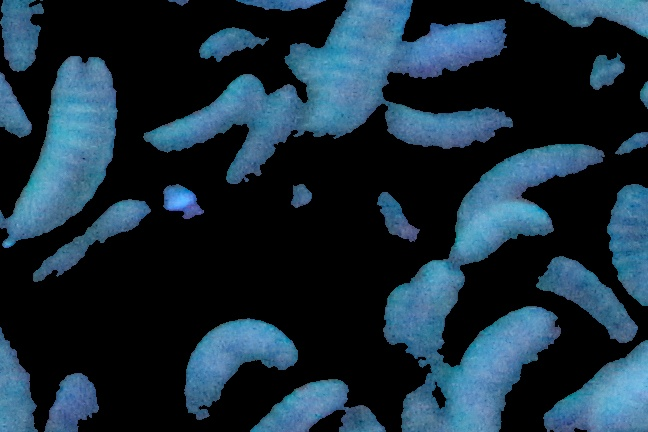larvae: (13, 54, 125, 236), (293, 1, 404, 138), (448, 310, 560, 432), (457, 145, 601, 233), (384, 262, 466, 398), (181, 318, 297, 406), (145, 74, 262, 153), (25, 199, 148, 274), (536, 259, 637, 342), (393, 17, 515, 78), (226, 81, 300, 179), (376, 100, 515, 149), (442, 202, 548, 265), (240, 380, 350, 432), (609, 185, 648, 308), (1, 1, 41, 72)
